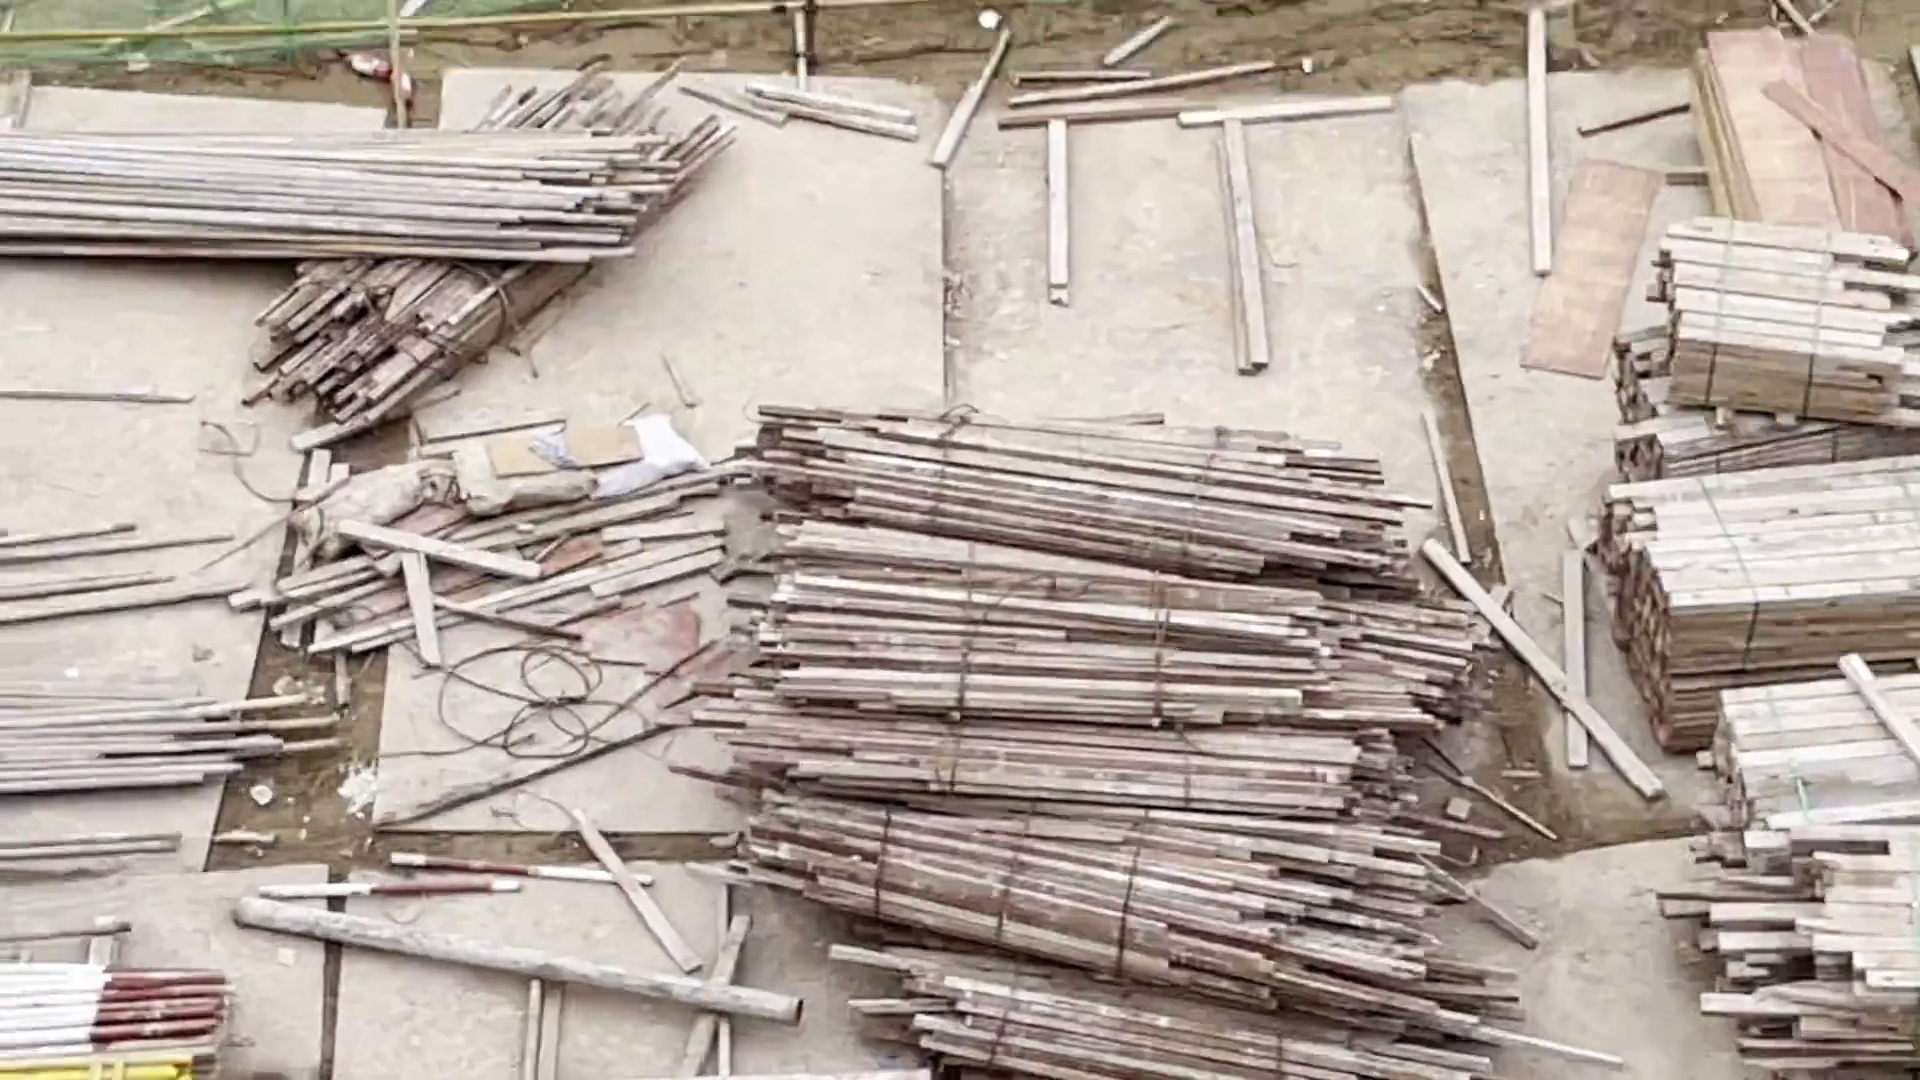board: (1672, 21, 1905, 232)
scaffold: (3, 113, 683, 262)
wood: (760, 381, 1477, 1077), (1710, 671, 1920, 1080), (1597, 476, 1919, 724), (1654, 228, 1920, 459)
